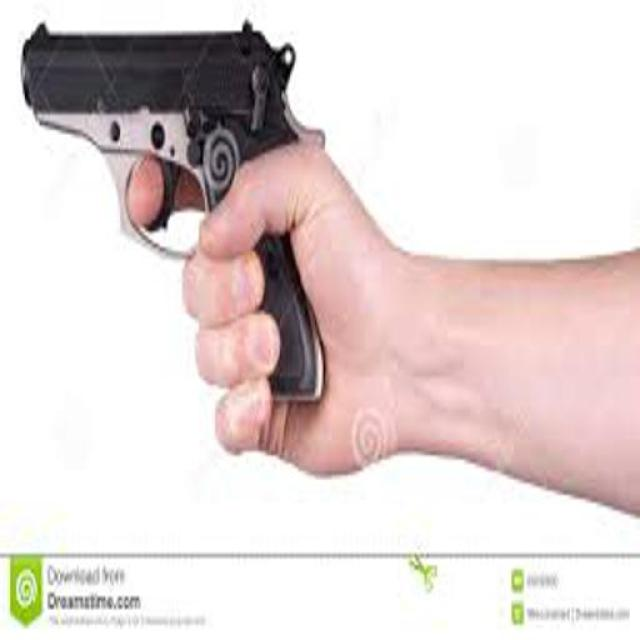pistol: (20, 11, 326, 400)
